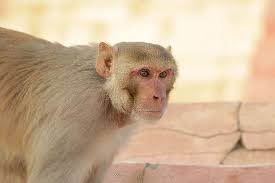monkey: (26, 17, 223, 172)
